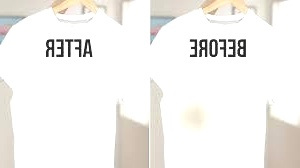oil: (176, 94, 215, 136)
